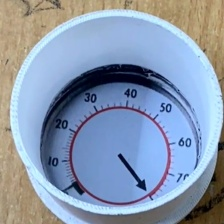gauge: (42, 76, 198, 207)
